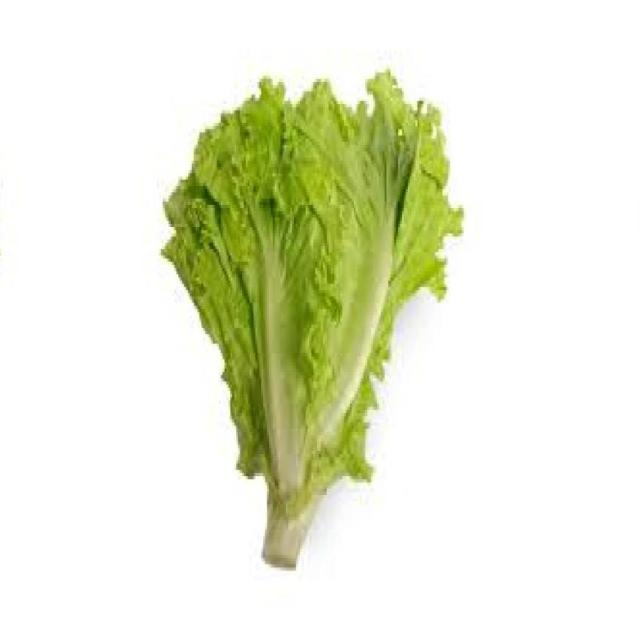healthy: (168, 73, 462, 560)
